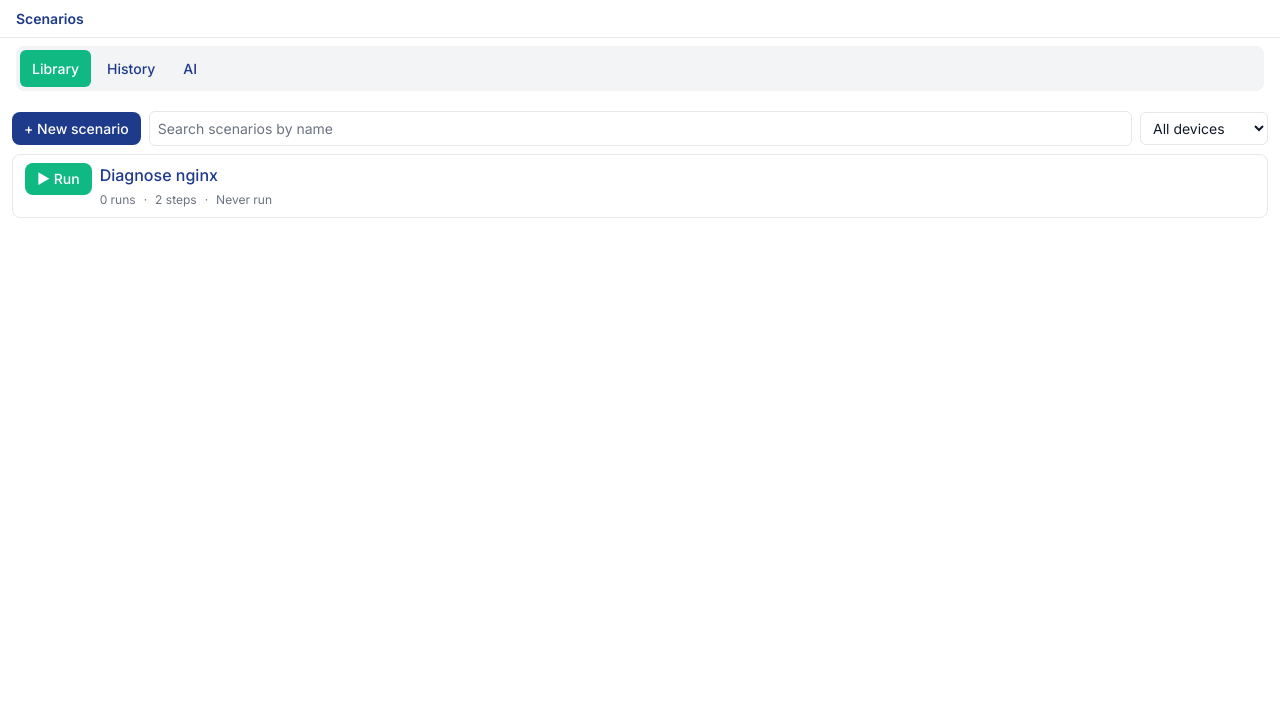
Test case: ScenariosPanel — launch flow (library → modal → run) › transitions to Run-mode after [Run all] and closes the modal
expect the list with test id "scenarios-list" is shown: met, box [12,154,1268,218]
Step 1. Click the button with test id "scenarios-row-run" → x=58, y=179, box [25,163,92,195]
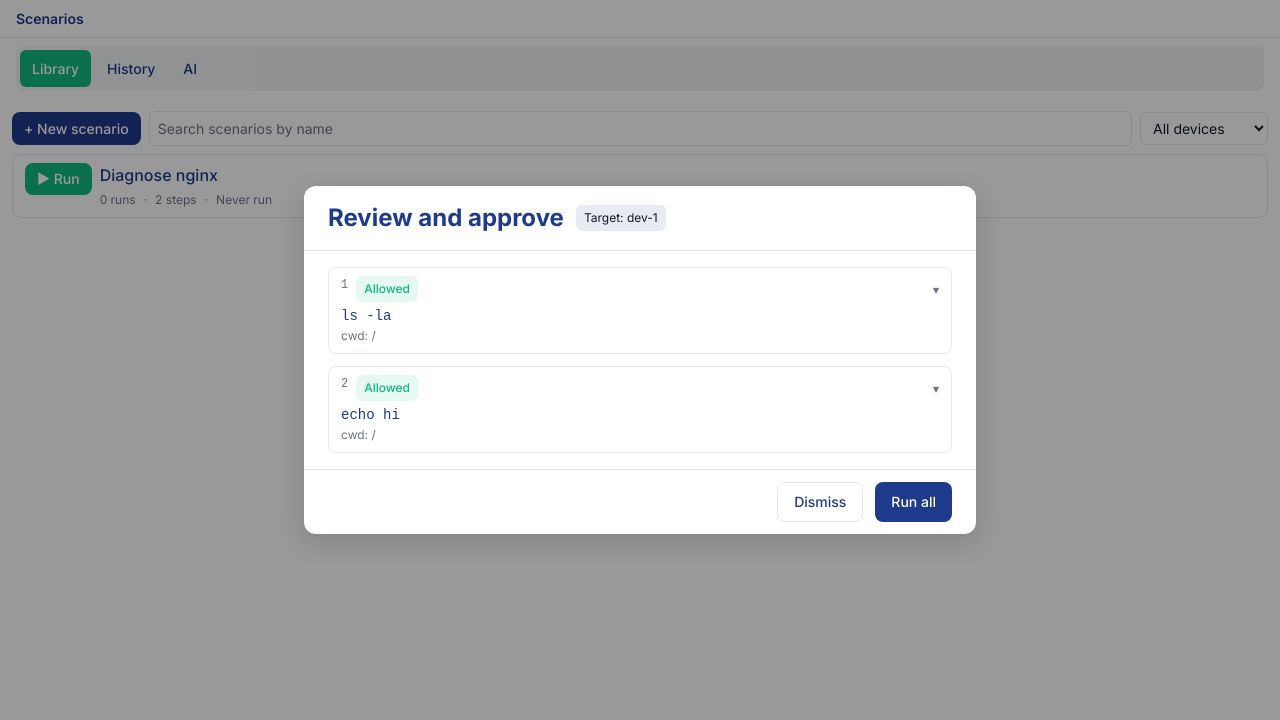
expect the button with test id "policy-preview-run-all" is shown: met
Step 2. Click the button with test id "policy-preview-run-all" → x=914, y=502, box [875,482,952,522]
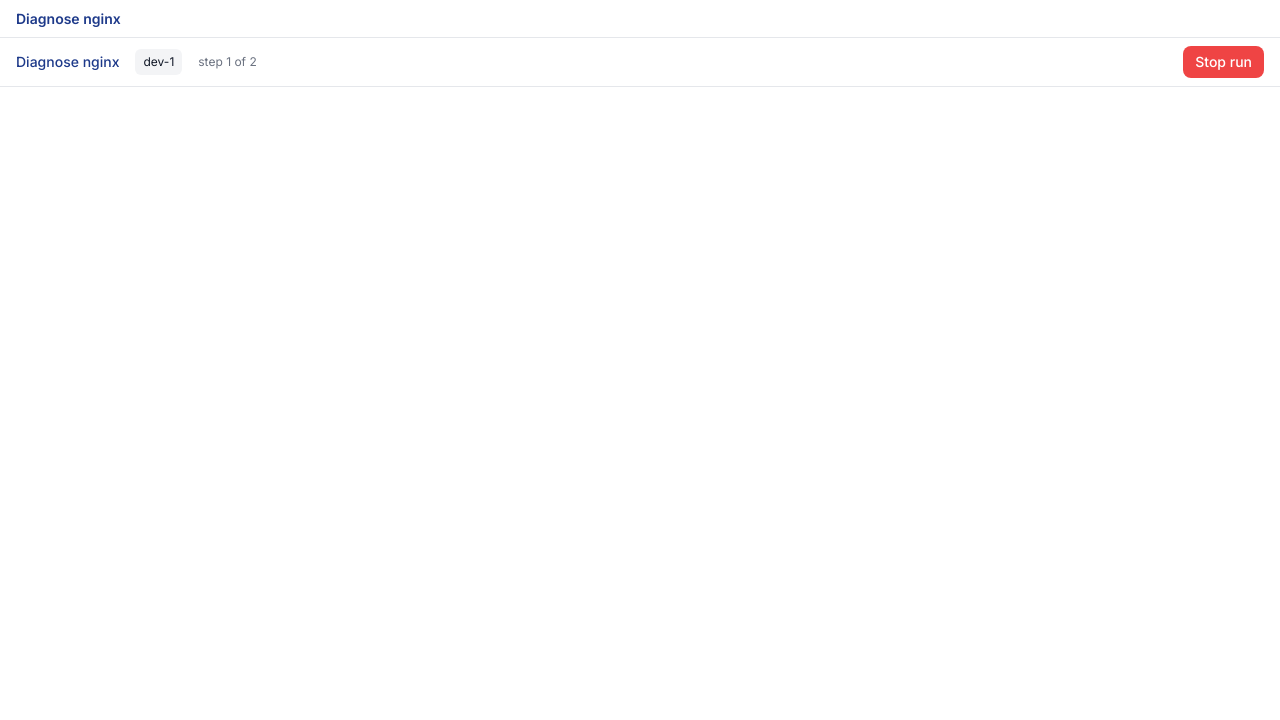
expect the dialog with test id "policy-preview-backdrop" is gone: met
expect the element with test id "scenarios-run-mode" is shown: met
